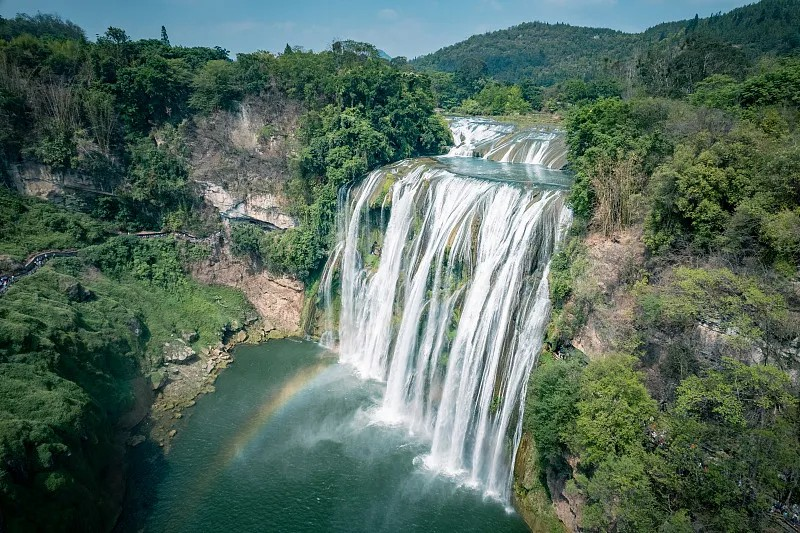Huangguoshu: (323, 123, 574, 512)
